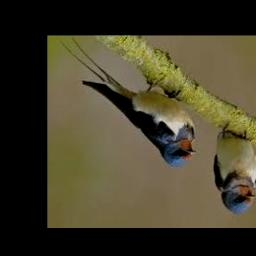Swallow: (61, 38, 197, 166), (213, 129, 256, 214)
